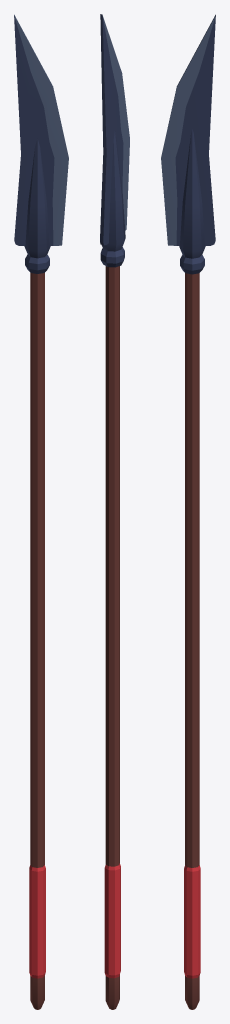
Rendered from Polearm_05.fbx.
3 views of the same model, side by side, from view 1: azimuth 90°, elevation 25°; view 2: azimuth 150°, elevation 25°; view 3: azimuth 270°, elevation 25° (orthographic).
Visible parts, largest first — view 1: Polearm_05; view 2: Polearm_05; view 3: Polearm_05.
Boxes of the visible parts, x1,y1,x2,y2 form: Polearm_05: [14, 14, 68, 1009]; Polearm_05: [100, 14, 129, 1009]; Polearm_05: [161, 14, 215, 1009].
Bounding box in the file's own units: 6.85 × 283 × 14.18.
